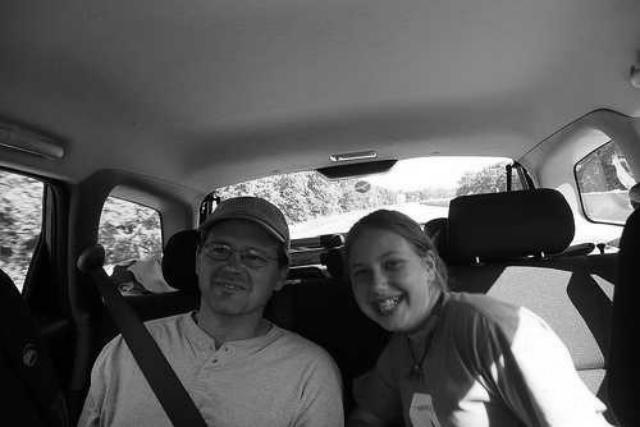SafeDriving: (204, 241, 235, 260), (380, 254, 410, 271), (240, 250, 268, 266)
Seatbelt: (76, 243, 212, 427)
